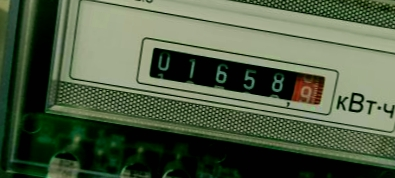0: (156, 48, 172, 71)
1: (185, 55, 199, 78)
5: (241, 65, 259, 90)
6: (213, 60, 230, 83)
8: (269, 68, 287, 92)
9: (296, 81, 313, 104)
screen: (129, 29, 348, 121)
